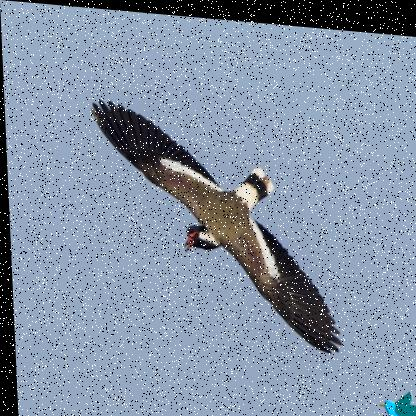Burung: (89, 97, 339, 347)
